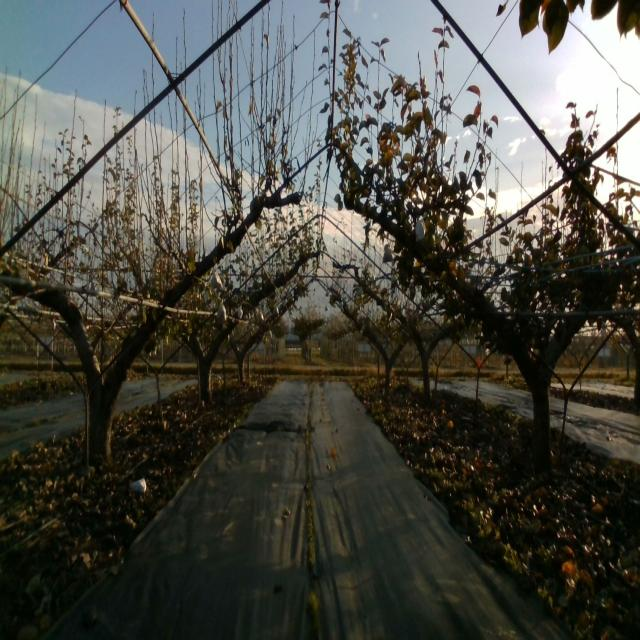pearbags: (414, 216, 426, 243)
